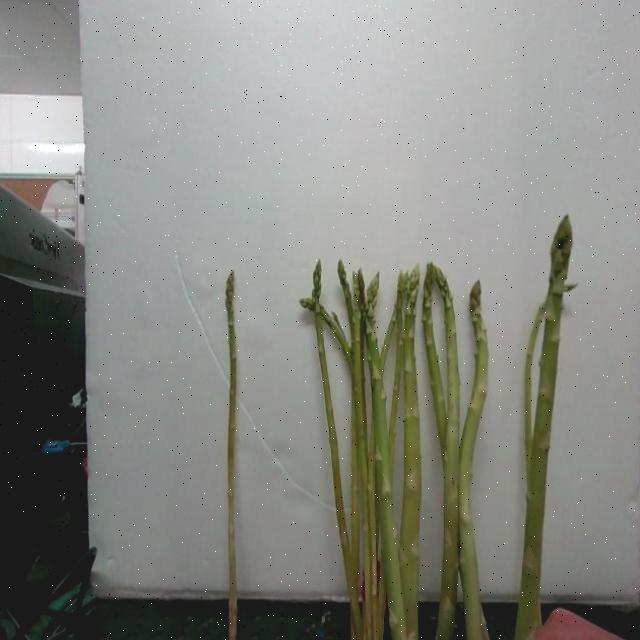aspargus: (517, 216, 573, 639), (459, 281, 488, 640), (225, 273, 239, 640)
